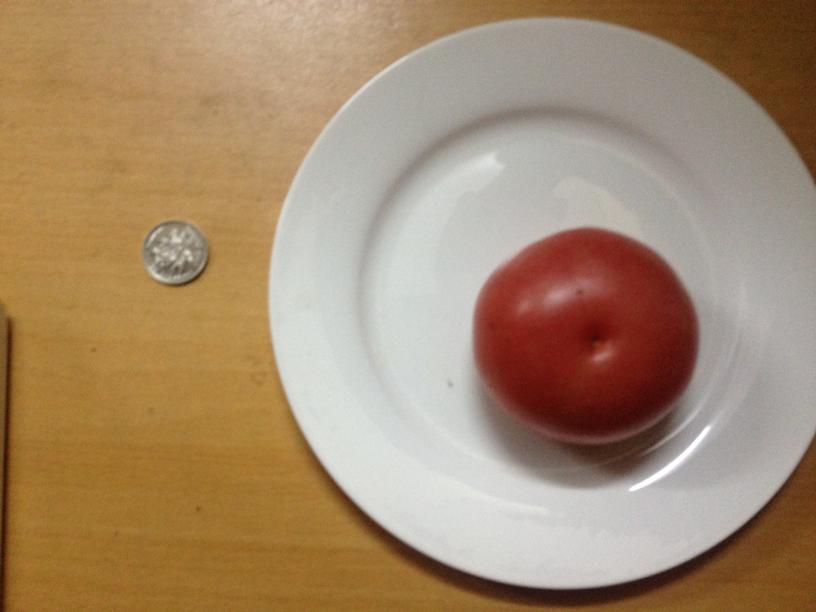coin: (142, 220, 209, 284)
tomato: (465, 227, 699, 442)
